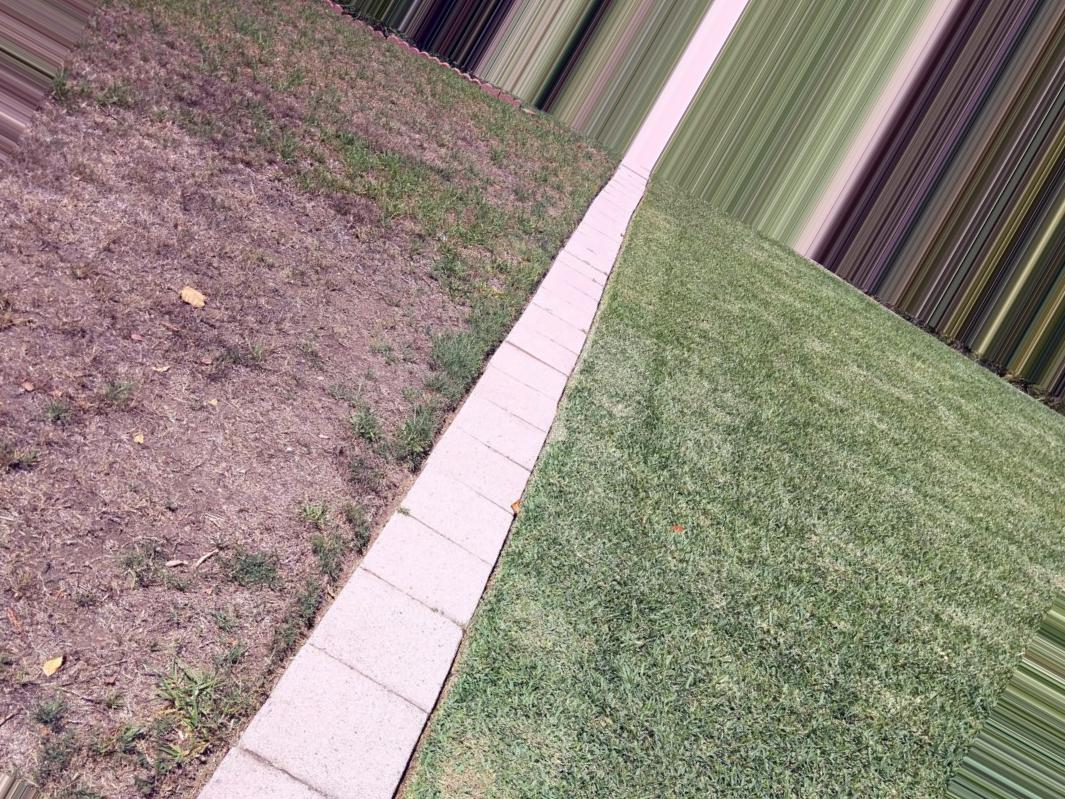patch: (3, 459, 394, 777), (190, 18, 548, 288), (68, 276, 450, 461)
